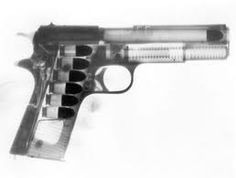gun: (5, 21, 233, 162)
